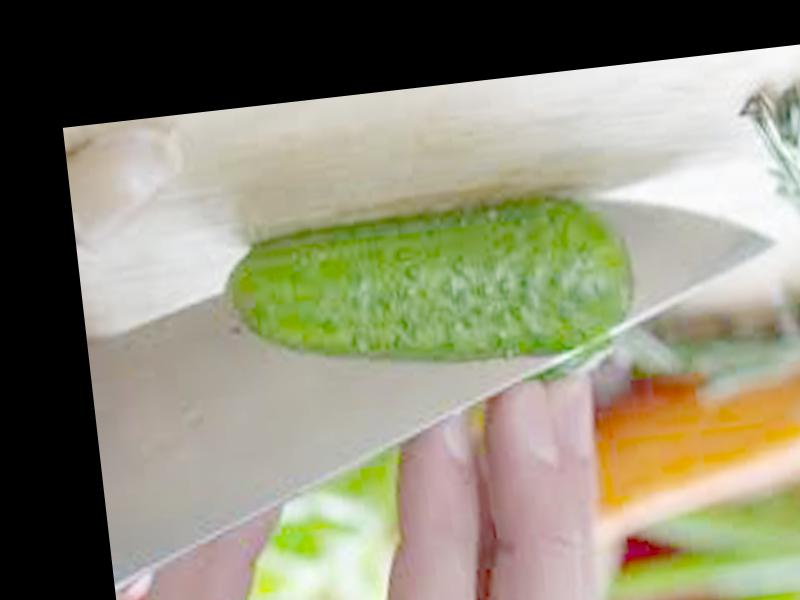Cucumber: (222, 182, 642, 391)
